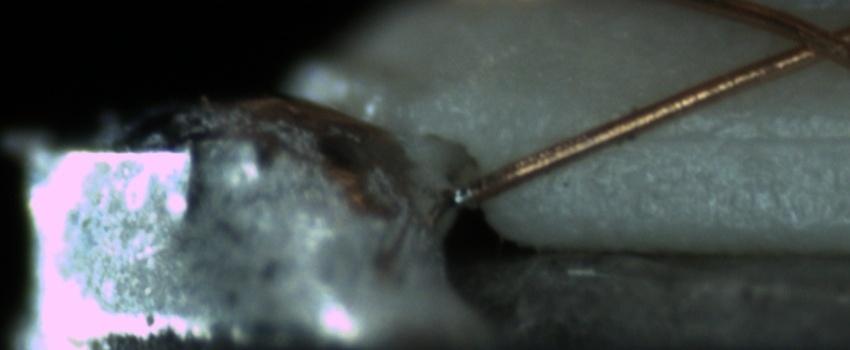CL: (768, 10, 846, 74)
DL: (607, 101, 846, 174)
